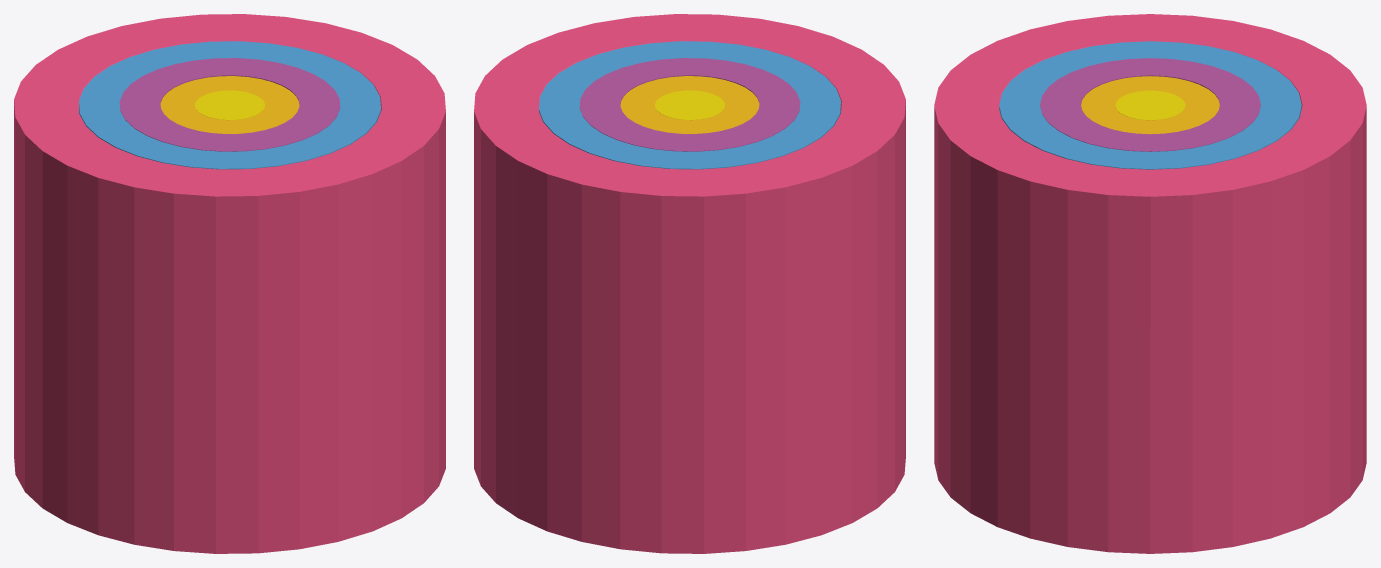
Rendered from Target.fbx.
3 renders of one model, left to right at view 1: azimuth 30°, elevation 25°; view 2: azimuth 150°, elevation 25°; view 3: azimuth 270°, elevation 25°, orthographic.
Parts seen in each view (by area): view 1: rozi, plavi.001, ljubicasti, narandzasti.001, zuti.001; view 2: rozi, plavi.001, ljubicasti, narandzasti.001, zuti.001; view 3: rozi, plavi.001, ljubicasti, narandzasti.001, zuti.001.
Boxes of the visible parts, x1,y1,x2,y2 form: rozi: [14, 14, 445, 553]; plavi.001: [79, 41, 380, 169]; ljubicasti: [119, 58, 340, 151]; narandzasti.001: [160, 76, 299, 133]; zuti.001: [195, 90, 264, 120]; rozi: [474, 14, 905, 553]; plavi.001: [539, 41, 840, 169]; ljubicasti: [579, 58, 800, 151]; narandzasti.001: [620, 76, 759, 133]; zuti.001: [655, 90, 724, 120]; rozi: [934, 14, 1366, 553]; plavi.001: [999, 41, 1301, 169]; ljubicasti: [1040, 58, 1260, 151]; narandzasti.001: [1081, 76, 1219, 134]; zuti.001: [1115, 90, 1185, 120].
Size of the model in its own units: 505 by 463 by 505.
